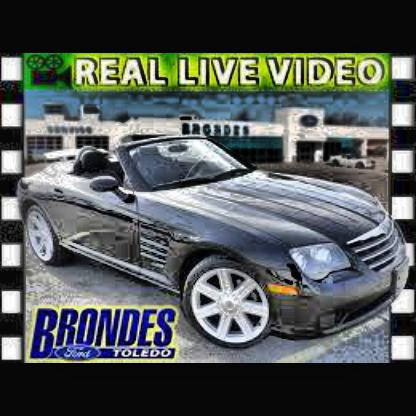Chrysler Crossfire Convertible 2008: (20, 136, 410, 350)
